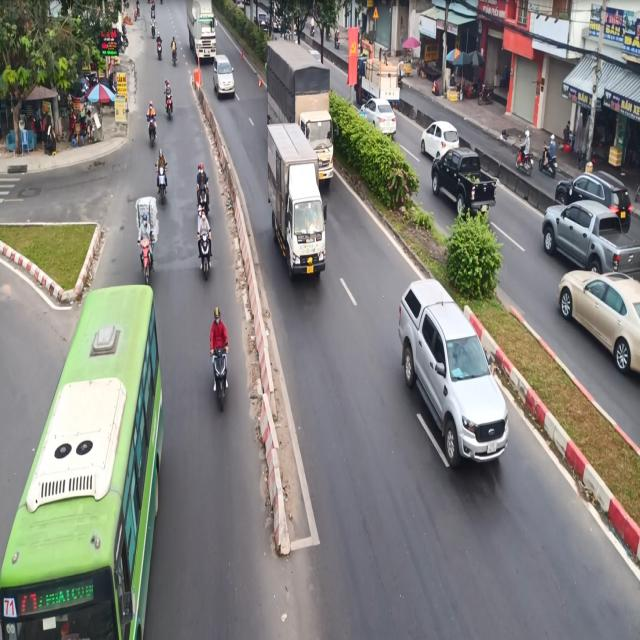bus: (4, 277, 170, 640)
car: (399, 273, 510, 479), (211, 52, 237, 101)
motor: (206, 297, 237, 415), (136, 212, 156, 282), (196, 212, 214, 286), (195, 159, 211, 212), (156, 148, 169, 205), (146, 92, 158, 142), (162, 75, 174, 119)
truck: (262, 121, 332, 283)
